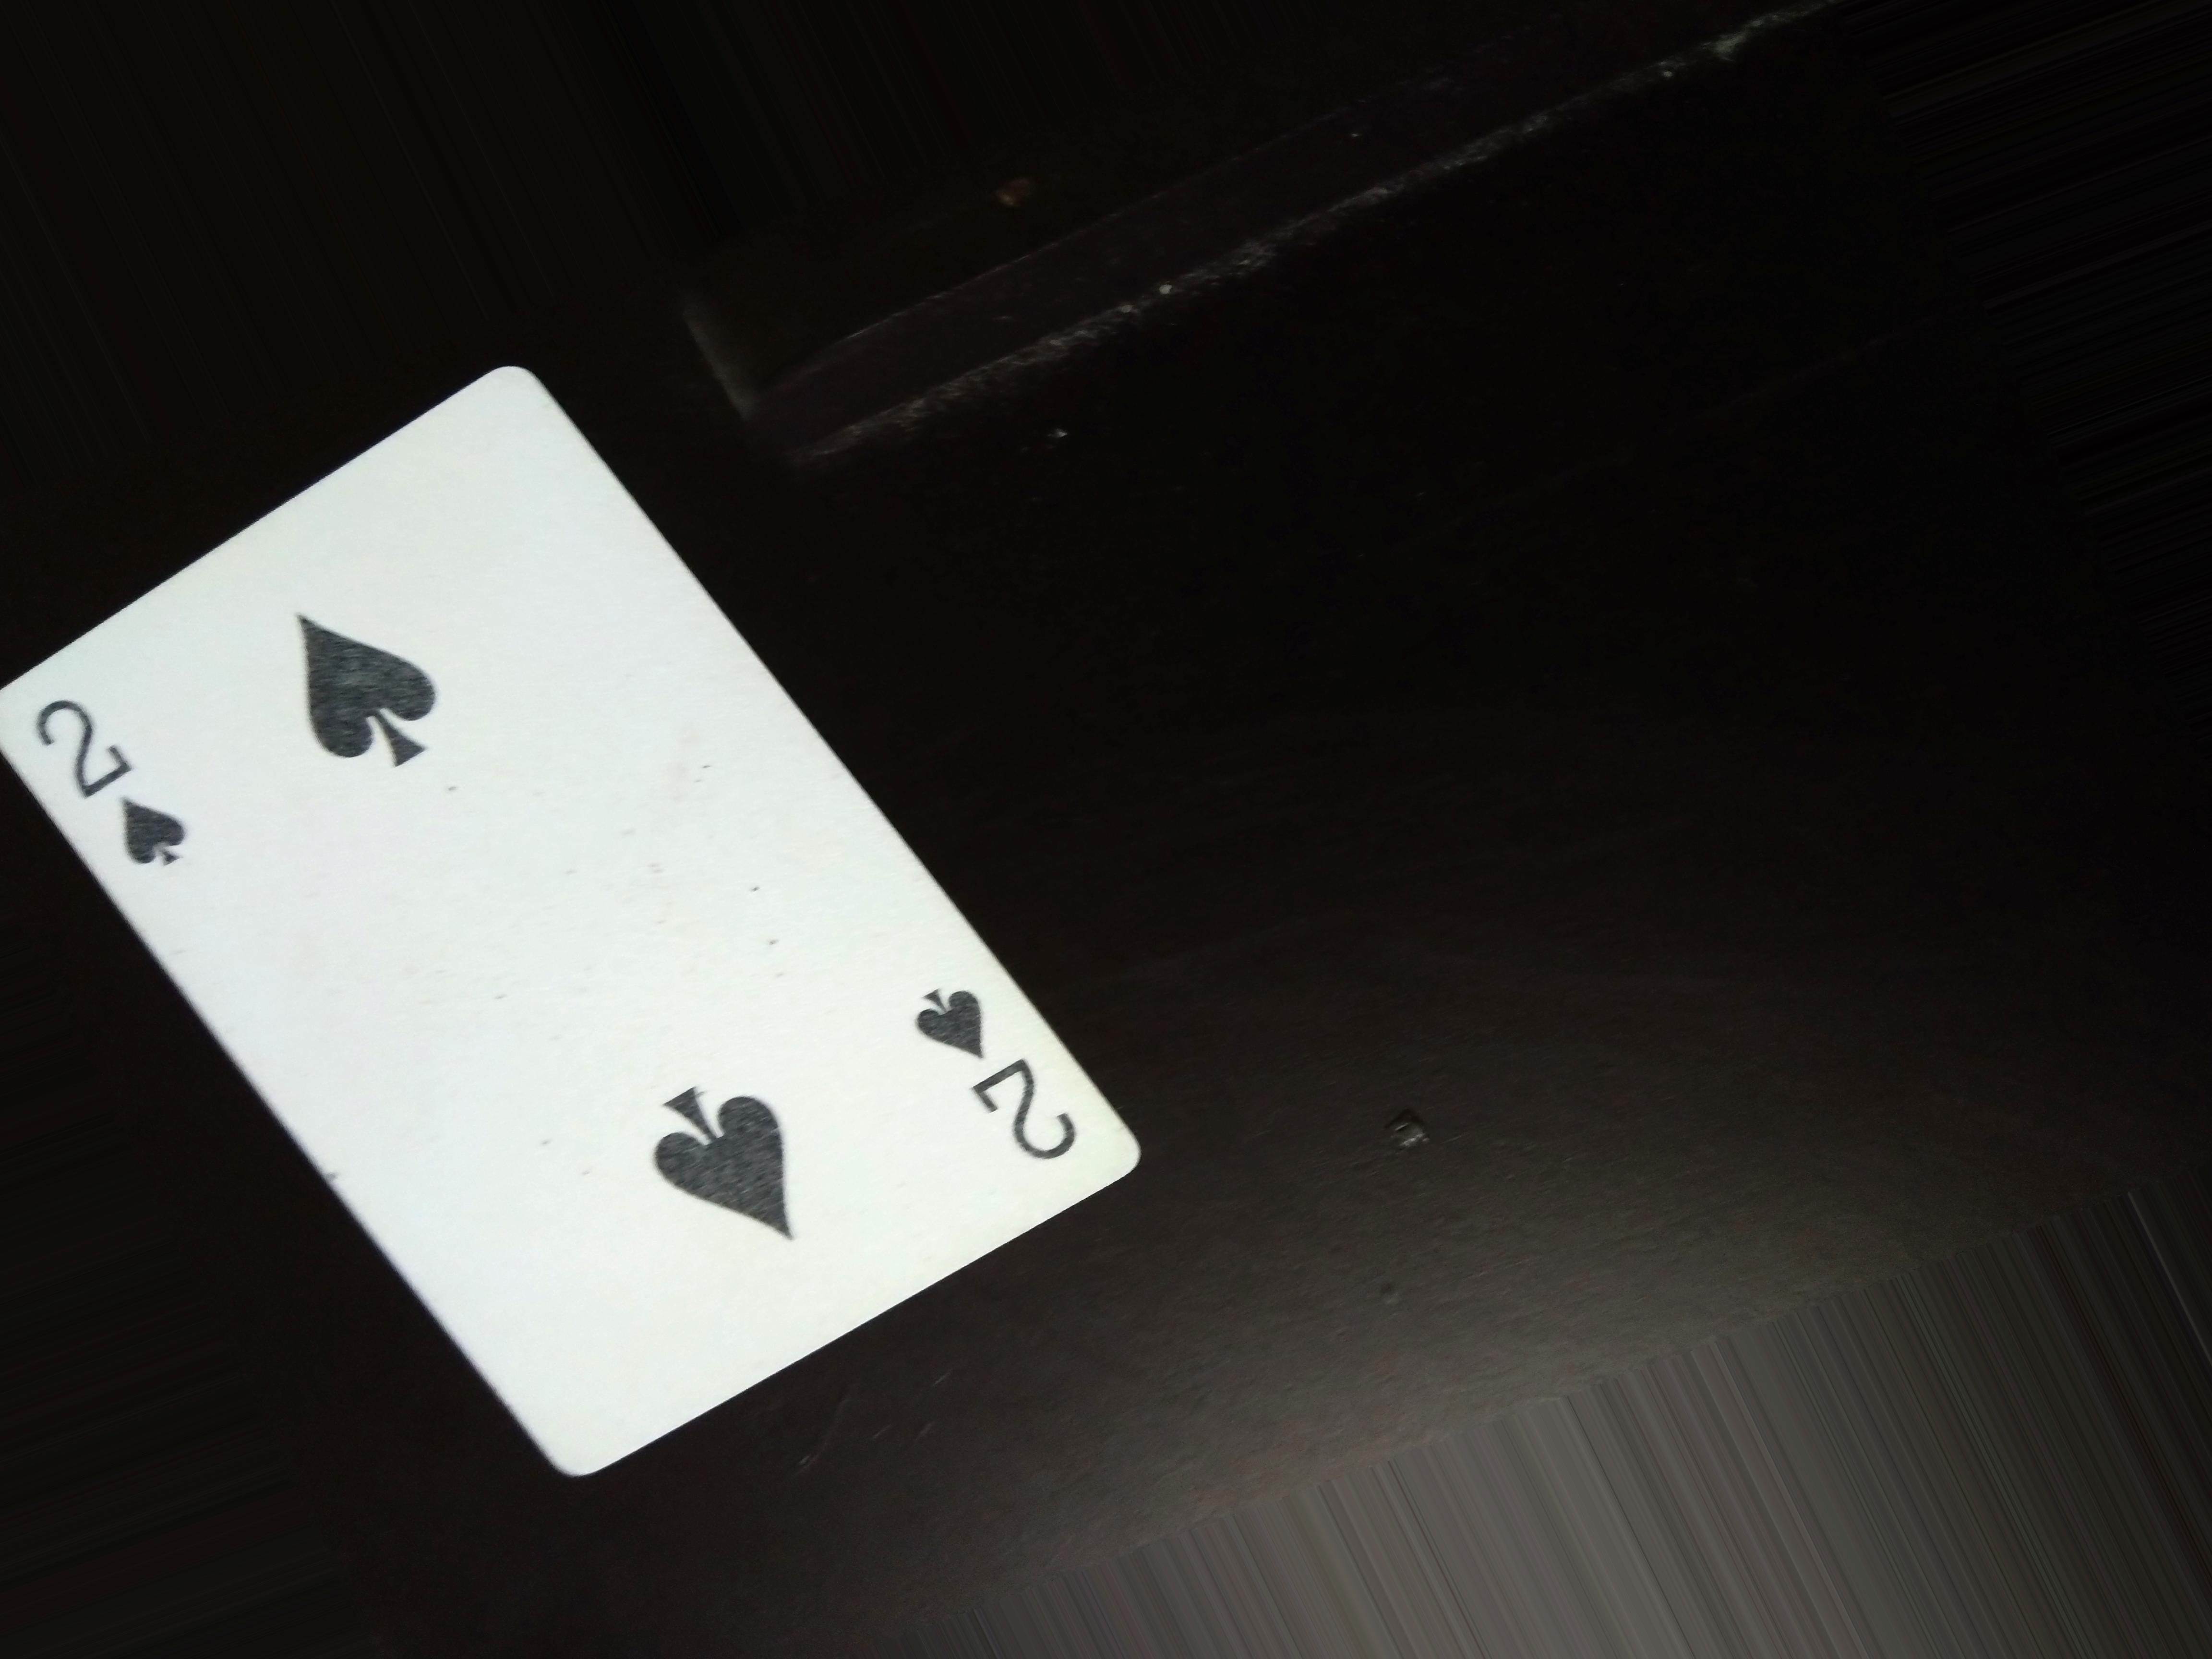2S: (895, 967, 1108, 1192)
